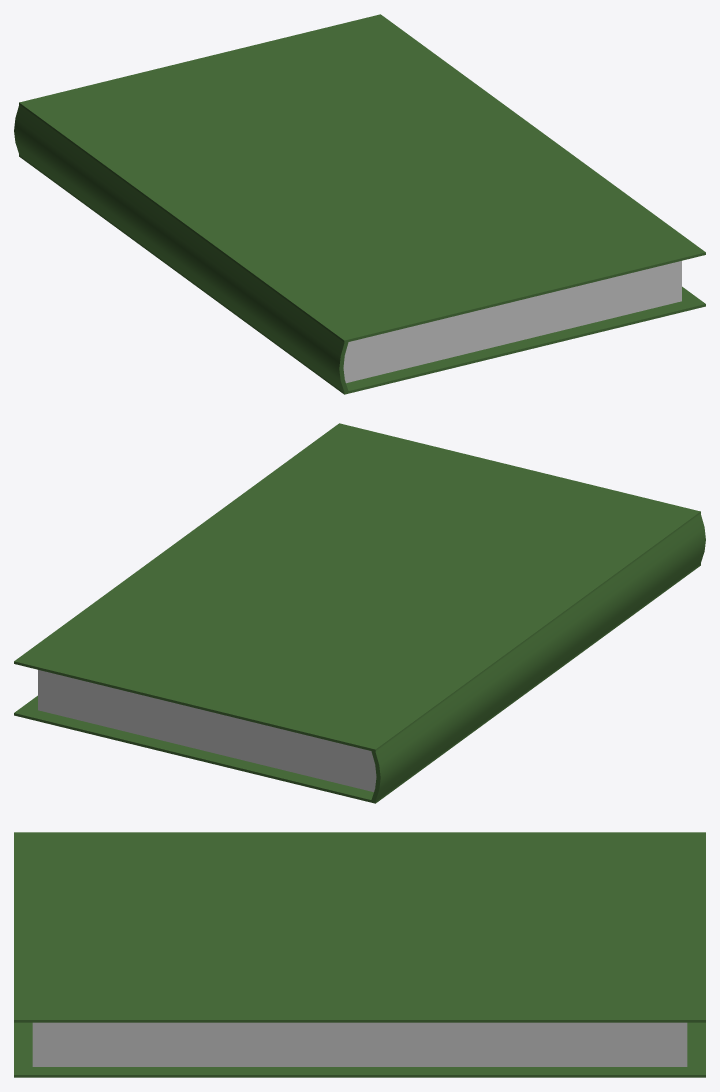
Rendered from livro_fechado.fbx.
3 views of the same model, one above another, from view 1: azimuth 30°, elevation 25°; view 2: azimuth 150°, elevation 25°; view 3: azimuth 270°, elevation 25° (orthographic). The views are drawn at different scales.
Parts seen in each view (by area): view 1: pCube1; view 2: pCube1; view 3: pCube1.
Boxes of the visible parts, x1,y1,x2,y2 form: pCube1: (14,14,705,394); pCube1: (14,423,705,803); pCube1: (14,832,705,1077).
Bounding box in the file's own units: 9.68 × 1.36 × 14.87.
